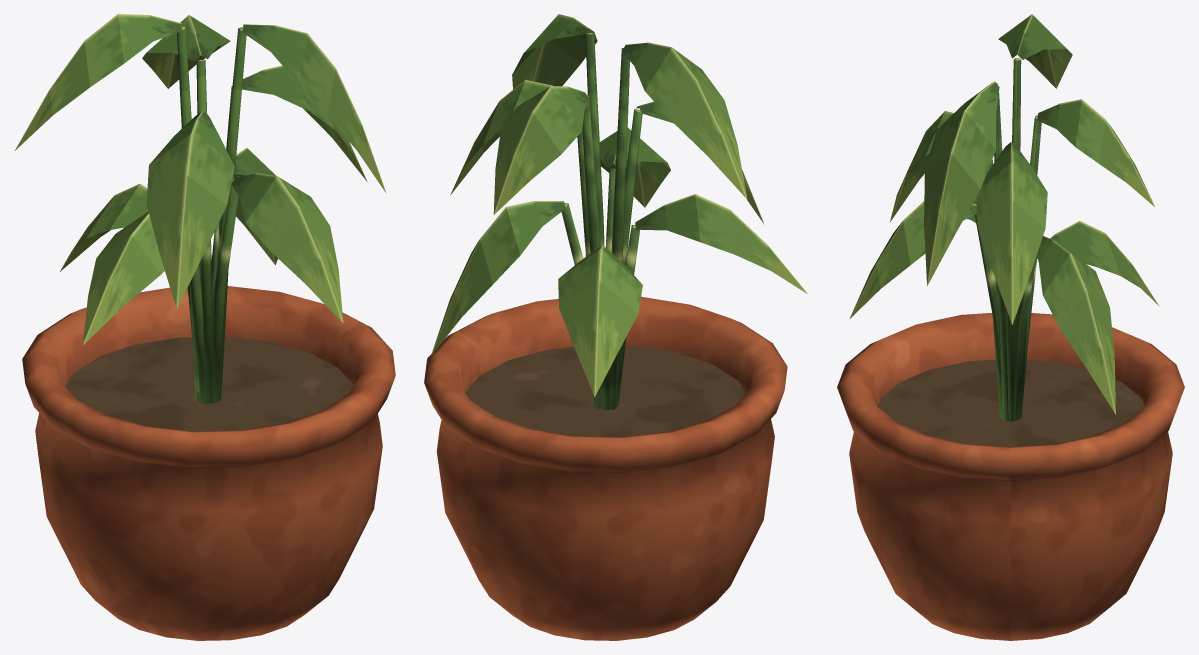
Rendered from potted_plant.glb.
The picture shows the model from 3 angles, left to right: view 1: azimuth 30°, elevation 25°; view 2: azimuth 150°, elevation 25°; view 3: azimuth 270°, elevation 25°; orthographic projection. The views are drawn at different scales.
Visible parts, largest first — view 1: potted_plant_pot, potted_plant_plant, potted_plant_soil; view 2: potted_plant_pot, potted_plant_plant, potted_plant_soil; view 3: potted_plant_pot, potted_plant_plant, potted_plant_soil.
Part boxes in pixels (bbox=[...]): potted_plant_pot: bbox=[22, 286, 395, 640]; potted_plant_plant: bbox=[15, 14, 386, 403]; potted_plant_soil: bbox=[65, 336, 353, 431]; potted_plant_pot: bbox=[424, 296, 787, 640]; potted_plant_plant: bbox=[431, 14, 808, 410]; potted_plant_soil: bbox=[465, 345, 745, 437]; potted_plant_pot: bbox=[837, 313, 1184, 640]; potted_plant_plant: bbox=[849, 14, 1159, 421]; potted_plant_soil: bbox=[877, 359, 1144, 446].
Size of what is drawn, in the model's own units: 0.44 by 0.75 by 0.43.
3 materials, 3 textured.
